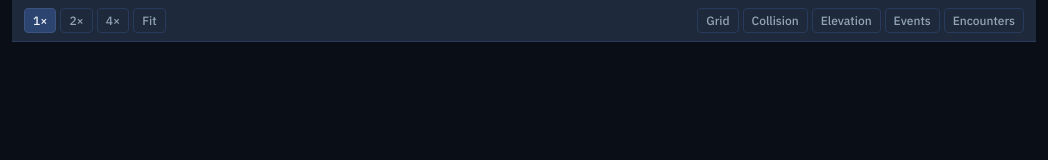
Test case: MapCanvas: Encounters overlay (Plan 6c B4) › a failed fetch shows the error as an alert in the legend row, not a silent empty border
Click the button "Encounters".
click(984, 20)  # box 944,8 -> 1024,33
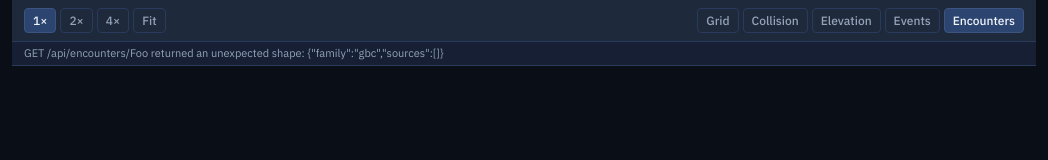
Expected: the message shows "/api/encounters/Foo returned an unexpected shape", 24,46 -> 444,60
